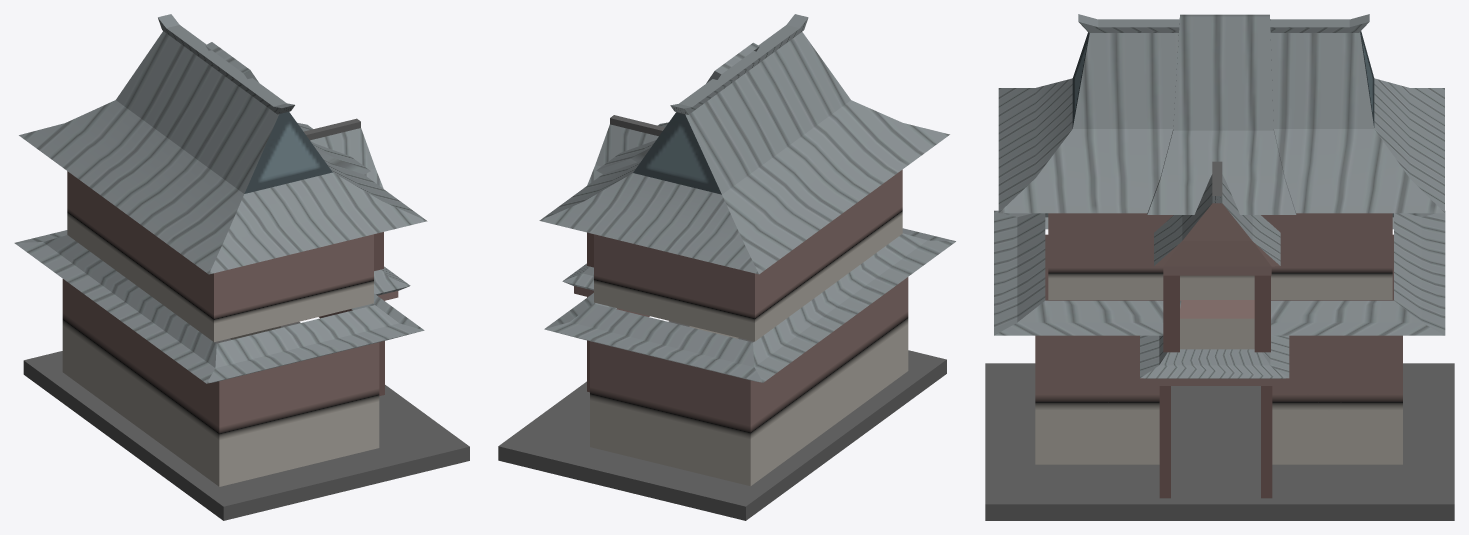
The model's file is TS_Building_03.FBX.
The picture shows the model from 3 angles, left to right: view 1: azimuth 30°, elevation 25°; view 2: azimuth 150°, elevation 25°; view 3: azimuth 270°, elevation 25°; orthographic projection. The views are drawn at different scales.
Visible parts, largest first — view 1: TS_building_03; view 2: TS_building_03; view 3: TS_building_03.
Boxes of the visible parts, x1,y1,x2,y2 form: TS_building_03: (14,14,469,520); TS_building_03: (498,14,955,520); TS_building_03: (985,14,1454,520).
Size of the model in its own units: 2.99 by 3.9 by 3.89.
